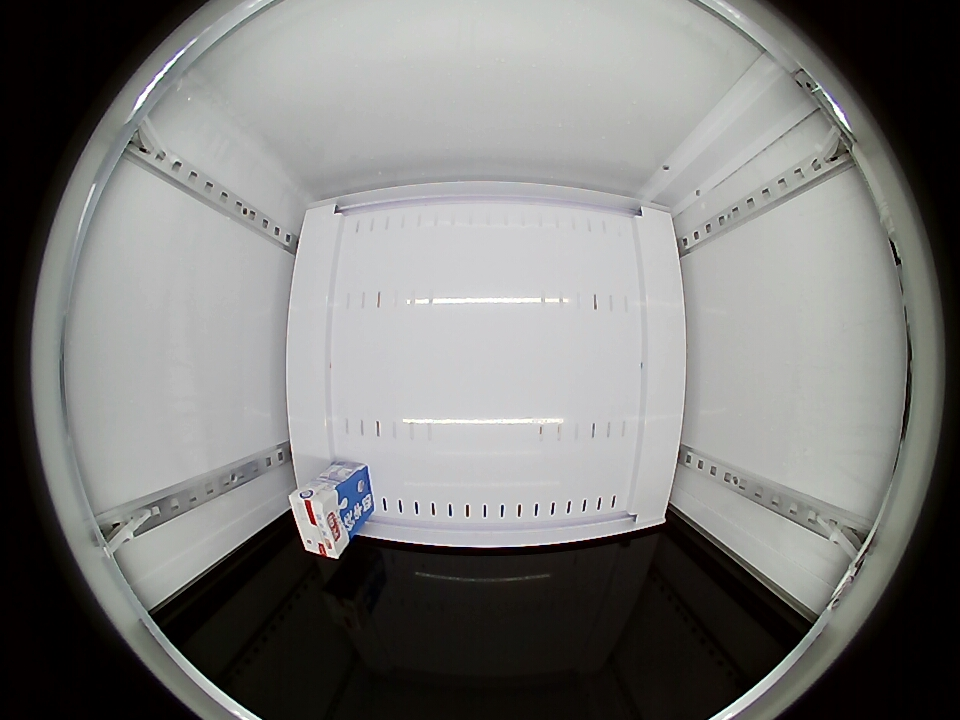niunai: (287, 480, 351, 559)
